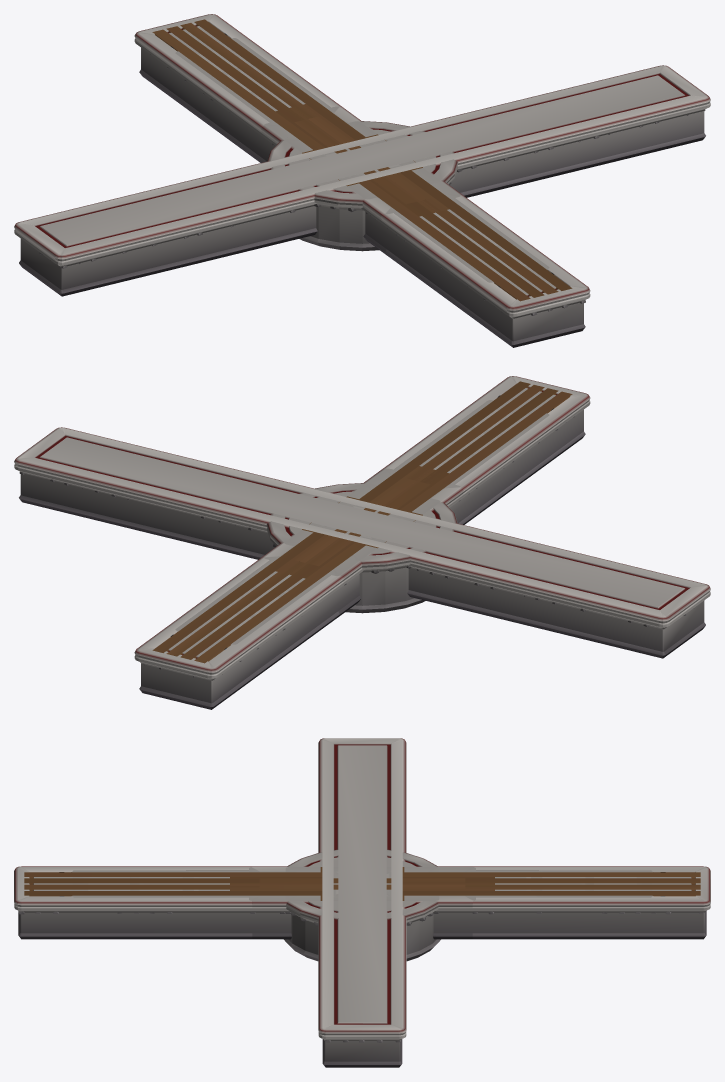
File: fortress-4-DPoRjzEW.glb
3 renders of one model, top to bottom at view 1: azimuth 30°, elevation 25°; view 2: azimuth 150°, elevation 25°; view 3: azimuth 270°, elevation 25°, orthographic. The views are drawn at different scales.
Visible parts, largest first — view 1: block_47.29999999999927x2x6#1, block_6x2x47.400000000000006#1, block_4x2x46_plank#1, disc_12x1.5#1, block_5x2x40#1, beam_2x1.5x14#1, block_6x2x16#1, beam_2.5x1.5x18_plank#1, block_5x2x25#1, block_6x2x11#1; view 2: block_47.29999999999927x2x6#1, block_6x2x47.400000000000006#1, block_4x2x46_plank#1, disc_12x1.5#1, block_5x2x40#1, beam_2x1.5x14#1, block_6x2x16#1, beam_2.5x1.5x18_plank#1, block_5x2x25#1, block_6x2x11#1; view 3: block_47.29999999999927x2x6#1, block_6x2x47.400000000000006#1, block_4x2x46_plank#1, disc_12x1.5#1, block_5x2x40#1, block_6x2x16#1, beam_2x1.5x14#1, block_5x2x25#1, beam_2.5x1.5x18_plank#1, block_6x2x11#1.
Boxes of the visible parts, left/top/right/bottom form: block_47.29999999999927x2x6#1: left=14, top=65, right=710, bottom=296; block_6x2x47.400000000000006#1: left=134, top=14, right=590, bottom=347; block_4x2x46_plank#1: left=152, top=19, right=572, bottom=301; disc_12x1.5#1: left=267, top=121, right=458, bottom=251; block_5x2x40#1: left=175, top=38, right=549, bottom=282; beam_2x1.5x14#1: left=294, top=116, right=430, bottom=204; block_6x2x16#1: left=261, top=106, right=462, bottom=255; beam_2.5x1.5x18_plank#1: left=275, top=104, right=449, bottom=216; block_5x2x25#1: left=235, top=82, right=489, bottom=238; block_6x2x11#1: left=284, top=121, right=440, bottom=237; block_47.29999999999927x2x6#1: left=14, top=427, right=710, bottom=658; block_6x2x47.400000000000006#1: left=134, top=376, right=590, bottom=709; block_4x2x46_plank#1: left=152, top=381, right=572, bottom=663; disc_12x1.5#1: left=266, top=483, right=457, bottom=613; block_5x2x40#1: left=175, top=400, right=549, bottom=644; beam_2x1.5x14#1: left=294, top=478, right=430, bottom=566; block_6x2x16#1: left=262, top=468, right=463, bottom=617; beam_2.5x1.5x18_plank#1: left=275, top=466, right=449, bottom=578; block_5x2x25#1: left=235, top=444, right=489, bottom=600; block_6x2x11#1: left=284, top=483, right=440, bottom=599; block_47.29999999999927x2x6#1: left=318, top=738, right=406, bottom=1067; block_6x2x47.400000000000006#1: left=14, top=866, right=710, bottom=939; block_4x2x46_plank#1: left=24, top=872, right=700, bottom=896; disc_12x1.5#1: left=284, top=849, right=440, bottom=961; block_5x2x40#1: left=71, top=870, right=653, bottom=897; block_6x2x16#1: left=249, top=866, right=475, bottom=939; beam_2x1.5x14#1: left=259, top=878, right=465, bottom=889; block_5x2x25#1: left=182, top=870, right=542, bottom=897; beam_2.5x1.5x18_plank#1: left=230, top=877, right=494, bottom=890; block_6x2x11#1: left=285, top=867, right=439, bottom=936.
Bounding box in the file's own units: 47.3 × 4.3 × 47.4.
